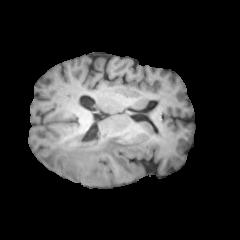glioma: (40, 115, 141, 183)
